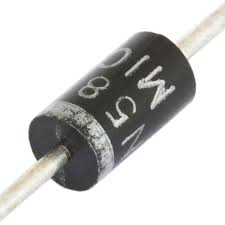diode: (8, 16, 215, 200)
